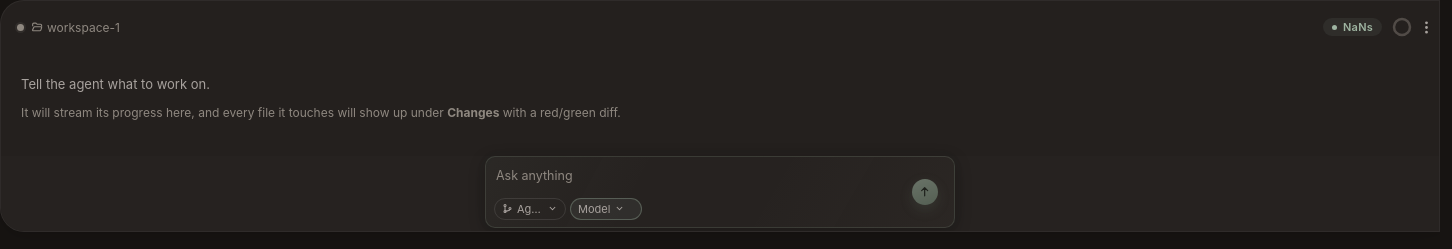
Test: agent panel usage tracker › hides the context row and stays neutral when the model has no context limit
Click the button with class "agent-usage-toggle" at point(1402, 27), box 1389,13 -> 1415,41
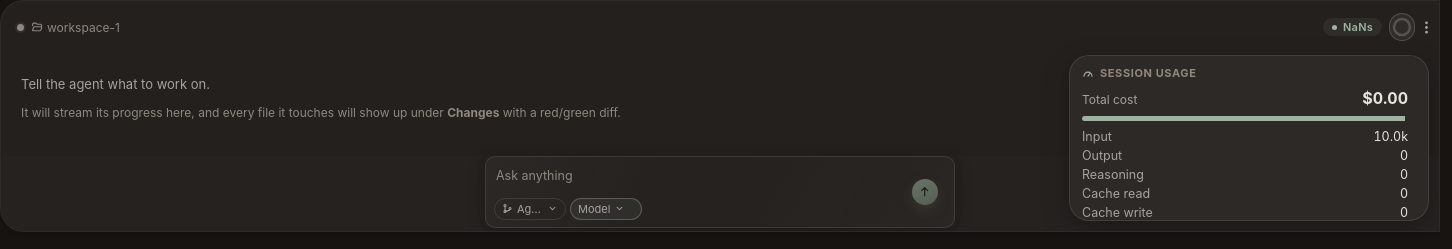
Check: the element with class "agent-usage-rows" is shown, box 1082,129 -> 1408,220
